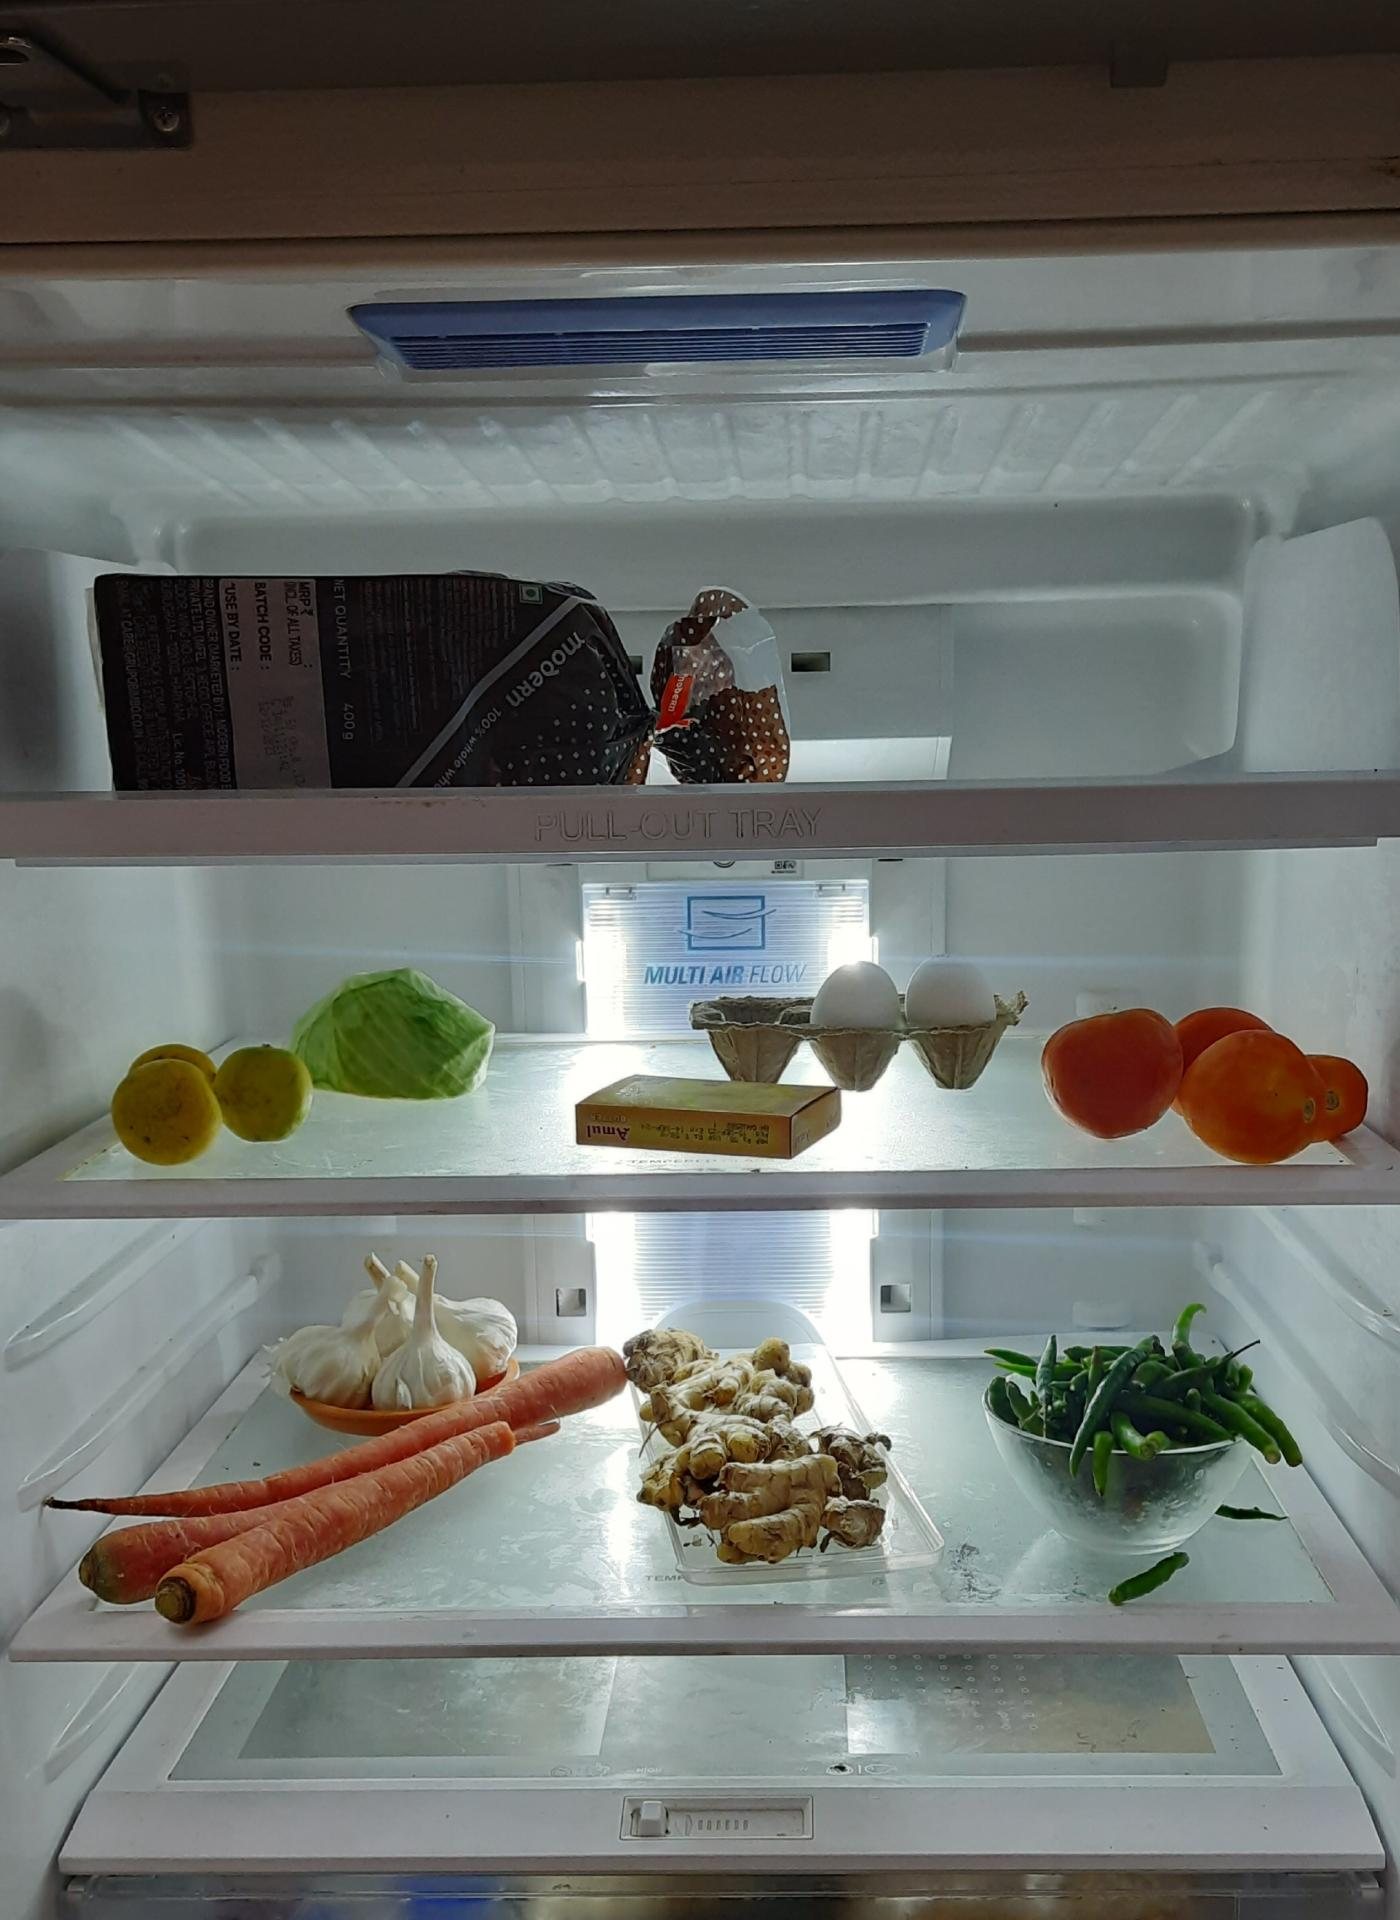bread: (94, 565, 801, 783)
butter: (578, 1073, 847, 1155)
cabbage: (288, 973, 495, 1105)
carrots: (52, 1413, 644, 1622)
chillies: (984, 1333, 1297, 1506)
egg: (814, 959, 997, 1027)
garlic: (279, 1246, 517, 1409)
ginger: (625, 1313, 887, 1546)
lemon: (107, 1039, 312, 1161)
tomato: (1039, 1000, 1372, 1155)
